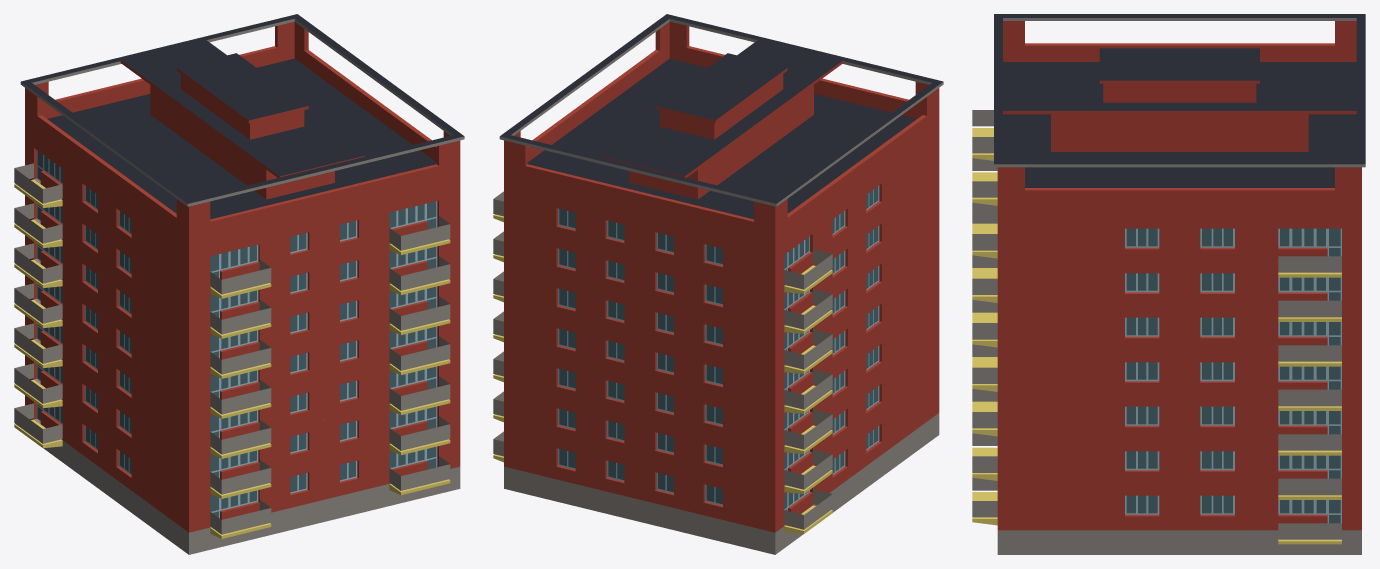
File: tower_house_01.fbx
The picture shows the model from 3 angles, left to right: view 1: azimuth 30°, elevation 25°; view 2: azimuth 150°, elevation 25°; view 3: azimuth 270°, elevation 25°; orthographic projection. The views are drawn at different scales.
Parts seen in each view (by area): view 1: tower_house_01, tower_house_01-2, tower_house_01-03; view 2: tower_house_01, tower_house_01-2, tower_house_01-03; view 3: tower_house_01, tower_house_01-2, tower_house_01-03.
Part boxes in pixels (x1,y1,x2,y2): tower_house_01: [25, 133, 460, 532]; tower_house_01-2: [20, 14, 464, 554]; tower_house_01-03: [14, 163, 450, 538]; tower_house_01: [504, 133, 939, 532]; tower_house_01-2: [499, 14, 943, 554]; tower_house_01-03: [493, 191, 832, 533]; tower_house_01: [997, 219, 1361, 530]; tower_house_01-2: [994, 14, 1365, 554]; tower_house_01-03: [972, 110, 1341, 544].
Size of the model in its own units: 2439 by 2812 by 2405.
